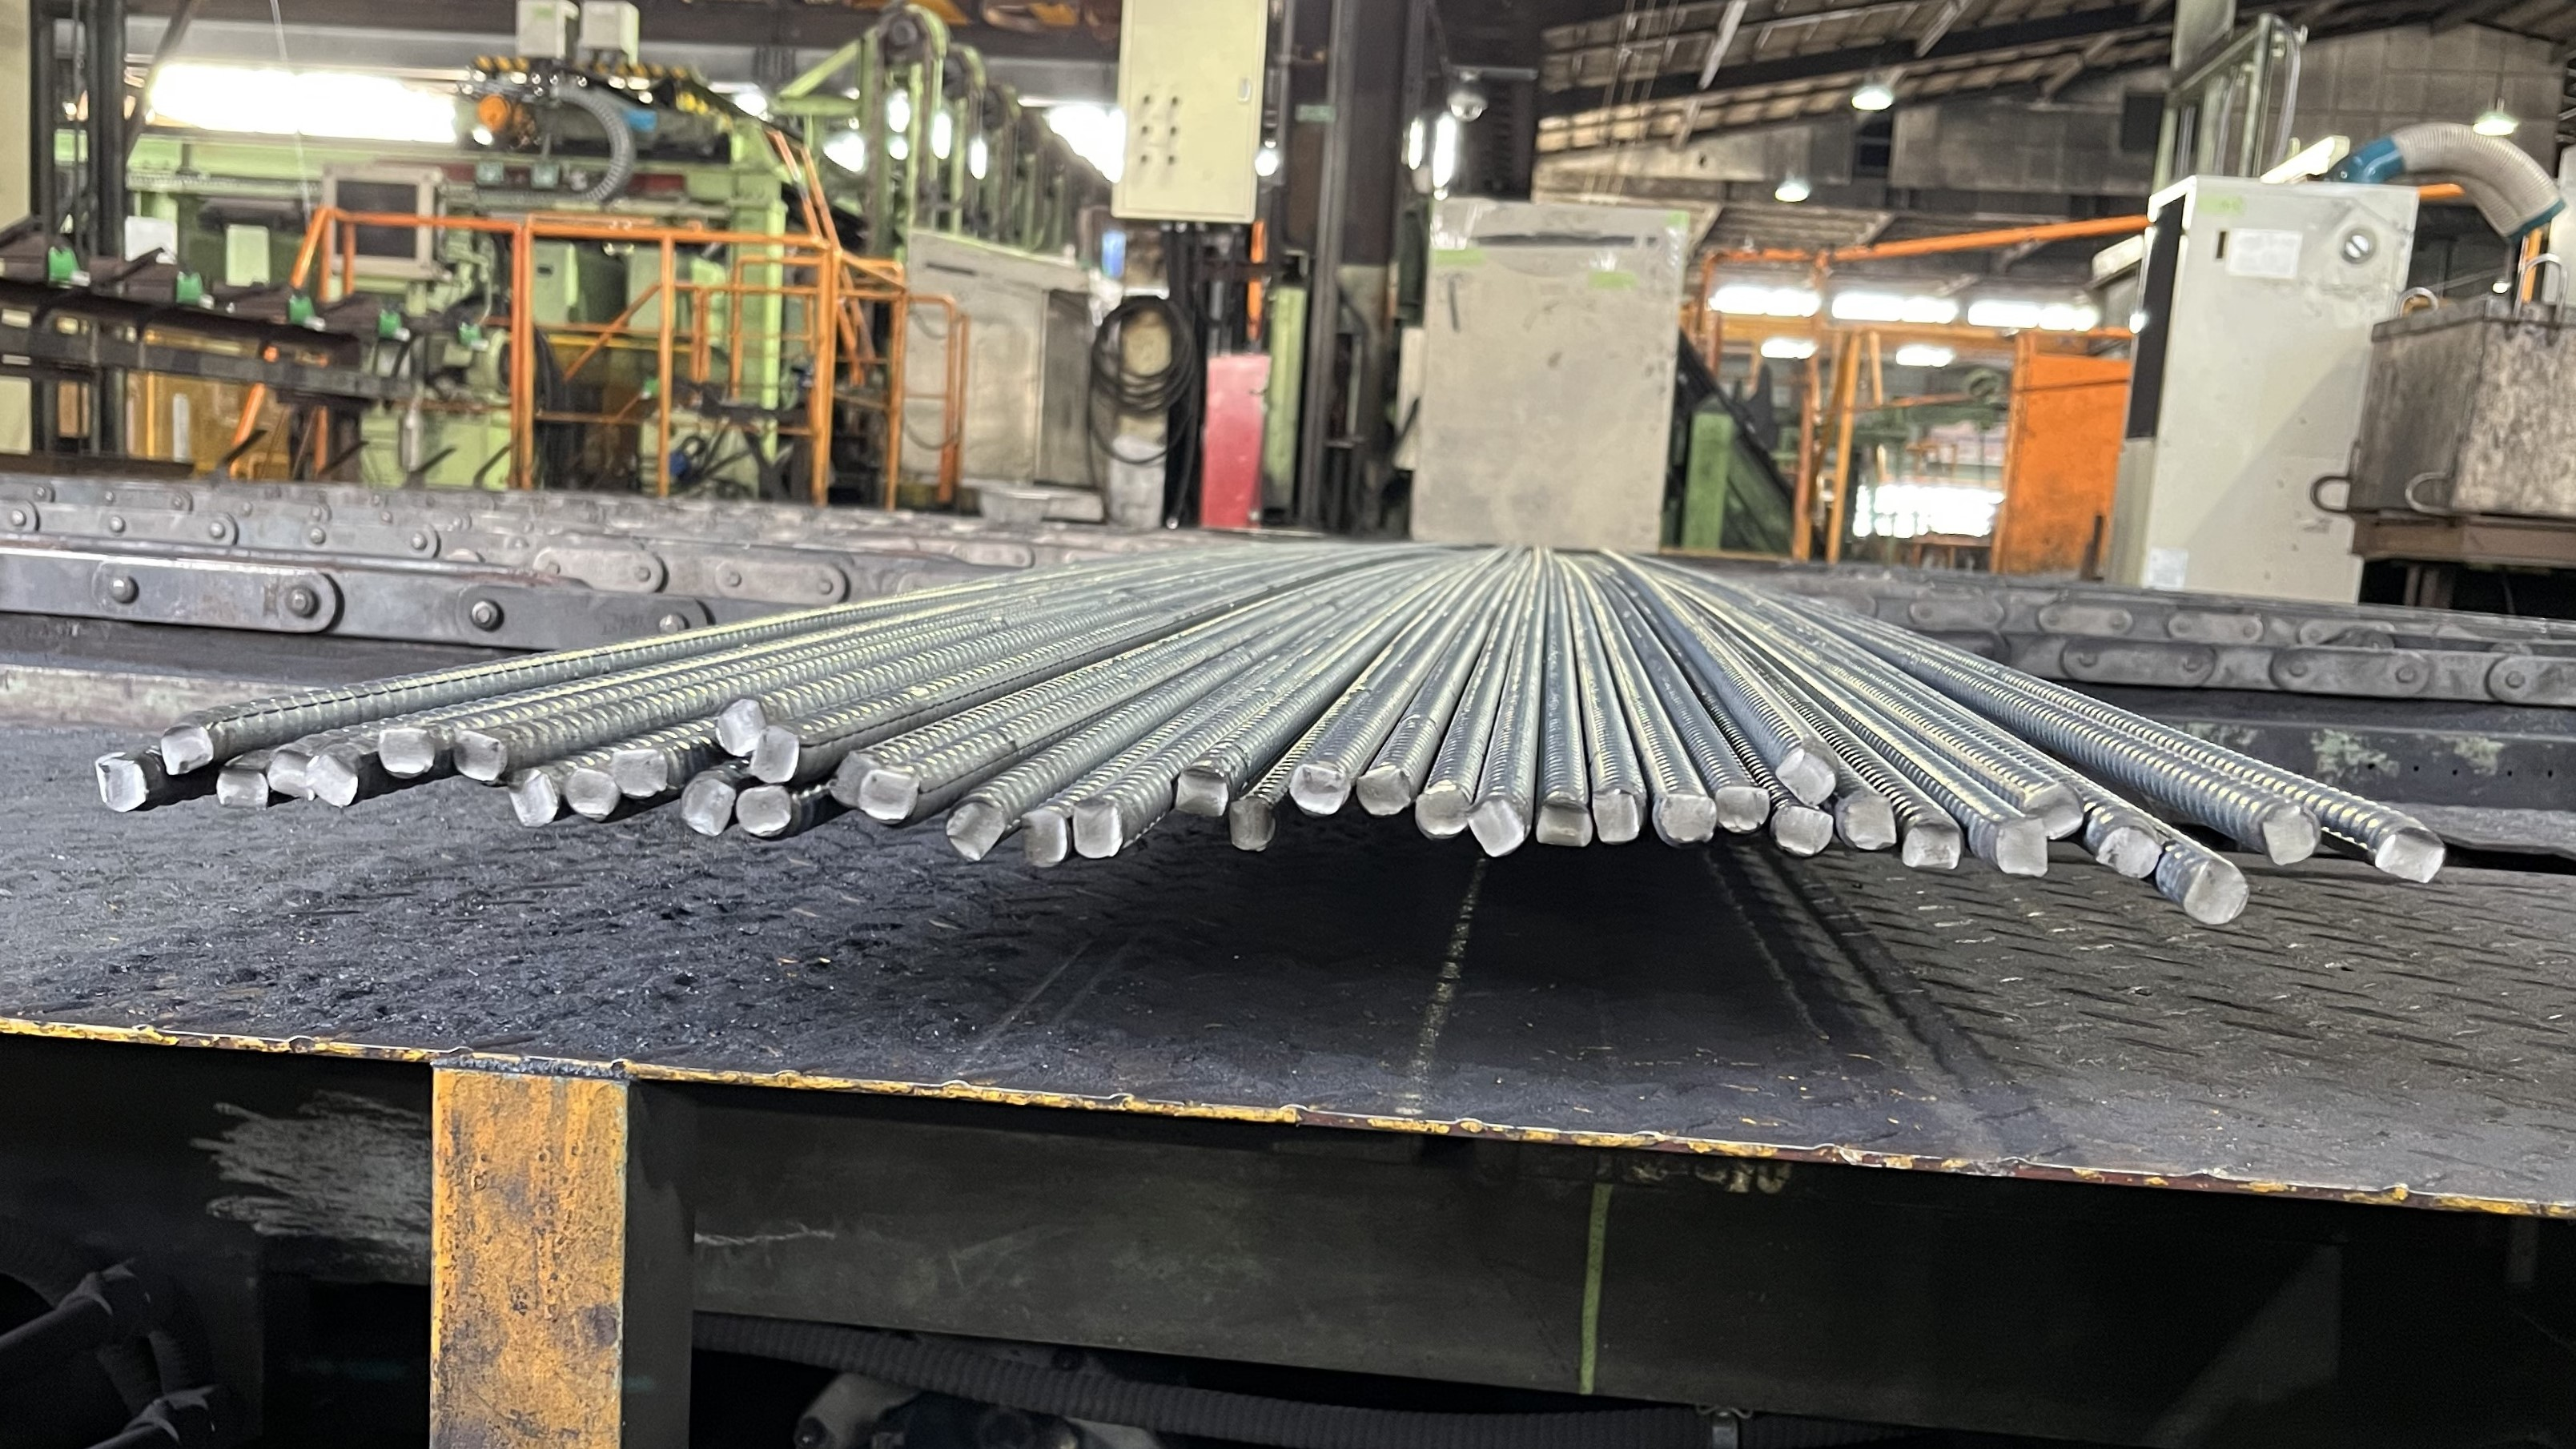rod: (2181, 855, 2250, 927), (2371, 826, 2449, 886), (1463, 793, 1529, 860), (2259, 801, 2323, 869), (1773, 748, 1840, 810), (2091, 823, 2162, 881), (943, 798, 1007, 862), (2019, 780, 2084, 842), (1836, 791, 1898, 855), (679, 775, 740, 839), (1769, 803, 1836, 860), (1994, 816, 2051, 883), (856, 768, 920, 824), (711, 697, 768, 759), (1070, 796, 1125, 860), (1288, 761, 1352, 816), (1652, 794, 1716, 849), (506, 766, 561, 828), (1900, 817, 1964, 870), (451, 729, 511, 784), (734, 784, 794, 839), (375, 725, 439, 777), (1173, 763, 1230, 819), (566, 764, 621, 823), (303, 755, 363, 809), (1534, 798, 1596, 849), (161, 722, 216, 778), (748, 727, 803, 784), (1355, 764, 1414, 817), (609, 748, 669, 800), (1017, 809, 1069, 869), (1592, 787, 1644, 847), (97, 759, 152, 814), (1414, 786, 1470, 837), (1228, 796, 1277, 855), (1713, 786, 1773, 833), (265, 750, 320, 800), (828, 750, 874, 807), (214, 766, 271, 809), (92, 750, 124, 789)
